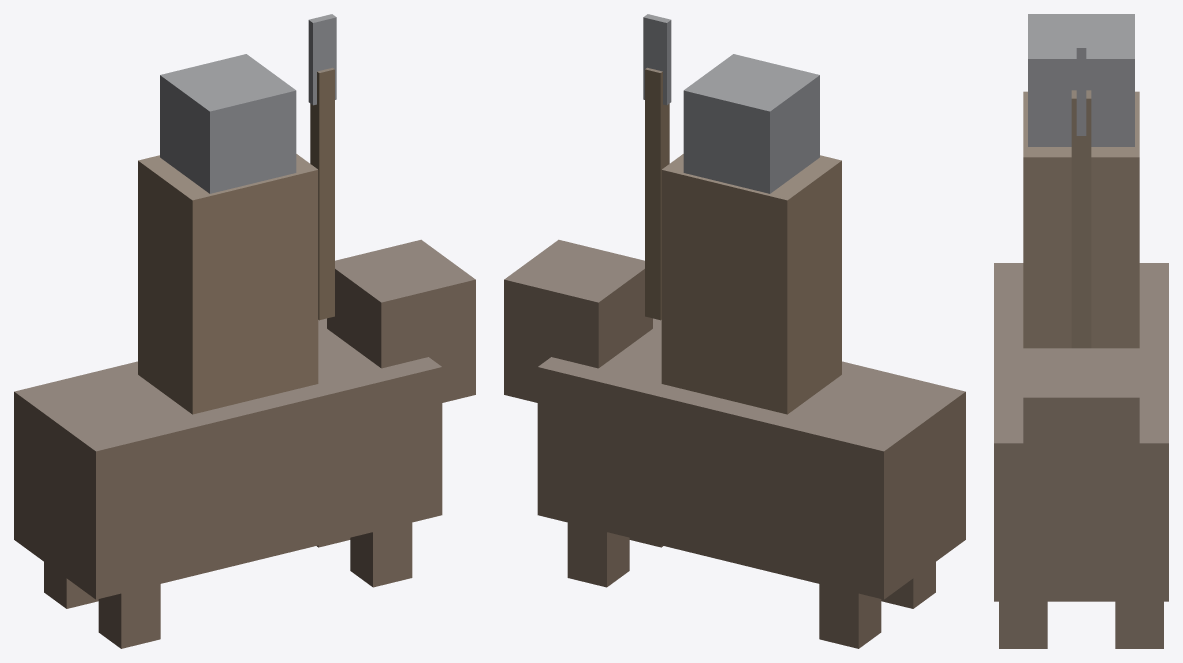
Rendered from cavalry.gltf.
3 views of the same model, side by side, from view 1: azimuth 30°, elevation 25°; view 2: azimuth 150°, elevation 25°; view 3: azimuth 270°, elevation 25° (orthographic). The views are drawn at different scales.
Parts seen in each view (by area): view 1: unit-cavalry; view 2: unit-cavalry; view 3: unit-cavalry.
Boxes of the visible parts, box(x1,y1,x2,y2) form: unit-cavalry: box(14, 14, 475, 648); unit-cavalry: box(504, 14, 965, 648); unit-cavalry: box(994, 14, 1168, 648).
Size of the model in its own units: 0.5 by 0.66 by 0.18.
